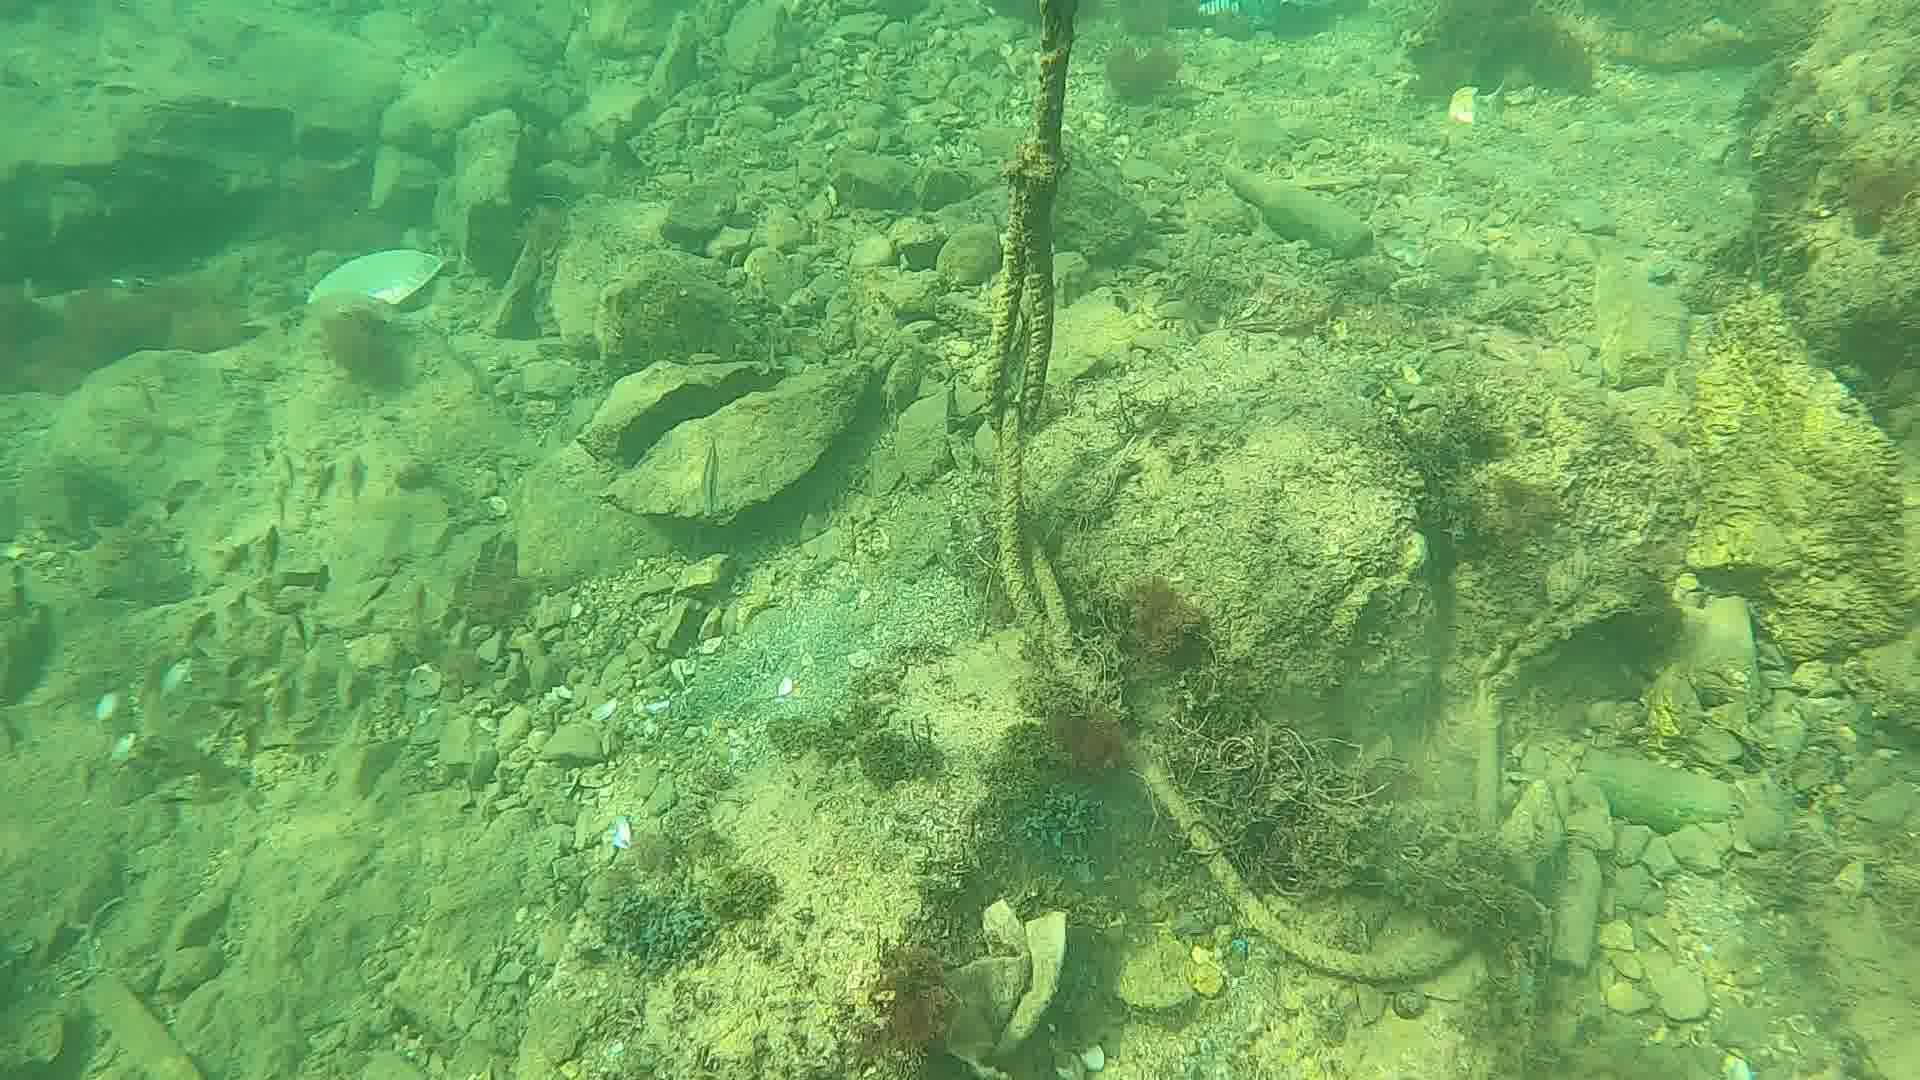bundle of ropes: (976, 0, 1456, 978)
